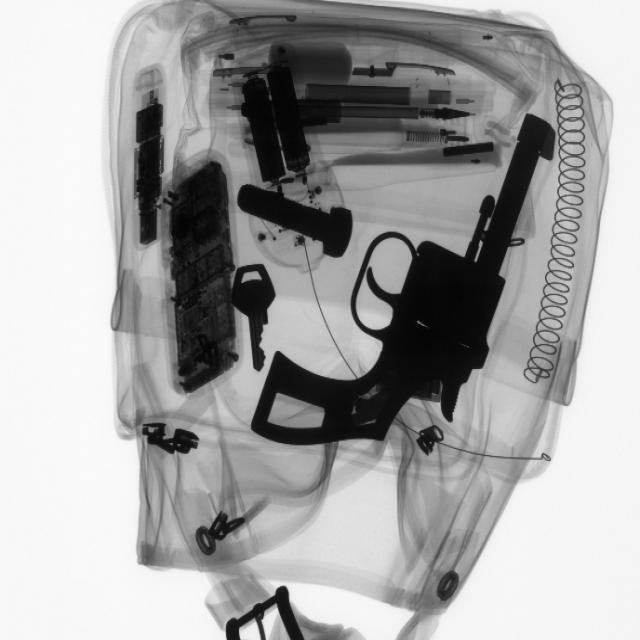GUN: (243, 118, 556, 459)
